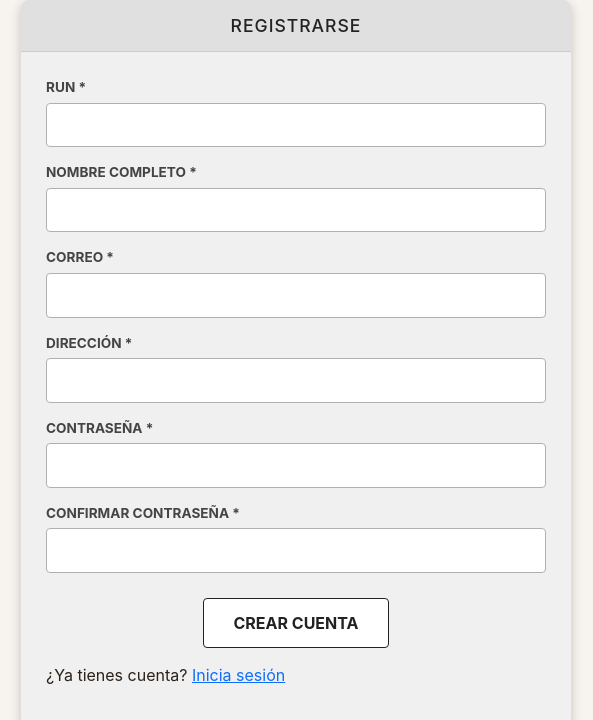
Test case: Registro › debe mostrar error si las contraseñas no coinciden
Type "12345678-5" into the field labelled "RUN *". click: (296, 125)
box: [46,102,546,147]
Type "Ana Pérez" into the field labelled "NOMBRE COMPLETO *". click: (296, 210)
box: [46,188,546,232]
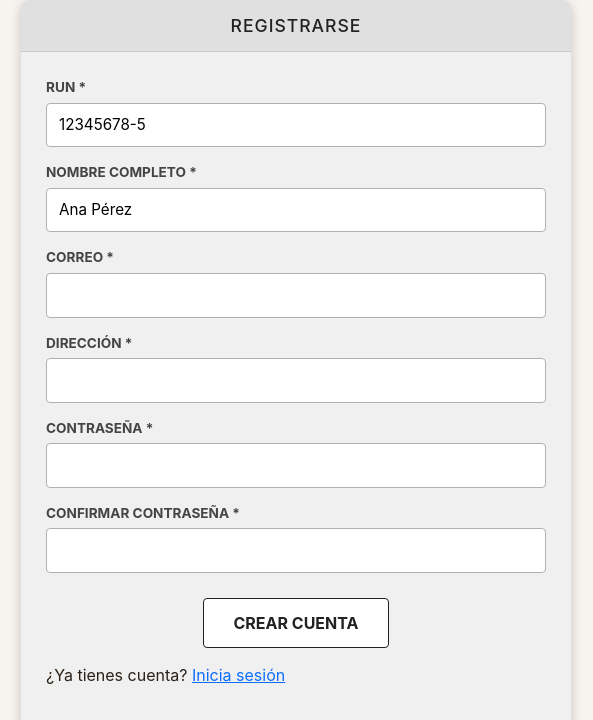
Type "ana@gmail.com" into the field labelled "CORREO *". click: (296, 295)
box: [46,273,546,318]
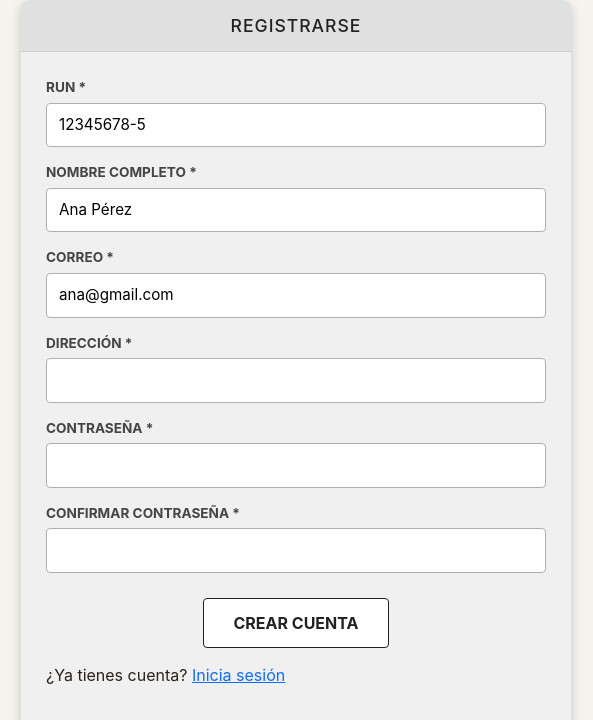
Type "Av. Siempre Viva 123" into the field labelled "DIRECCIÓN *". click: (296, 380)
box: [46,358,546,403]
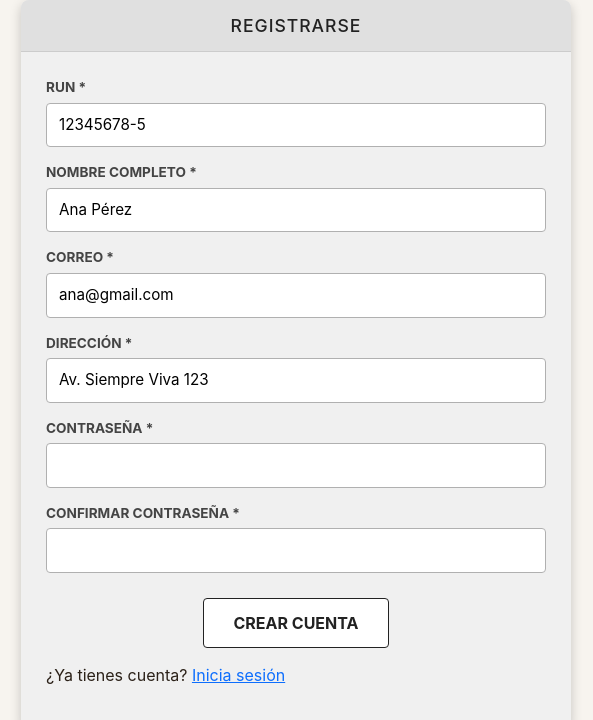
Type "clave12345" into the password field labelled "CONTRASEÑA *". click: (296, 466)
box: [46,443,546,488]
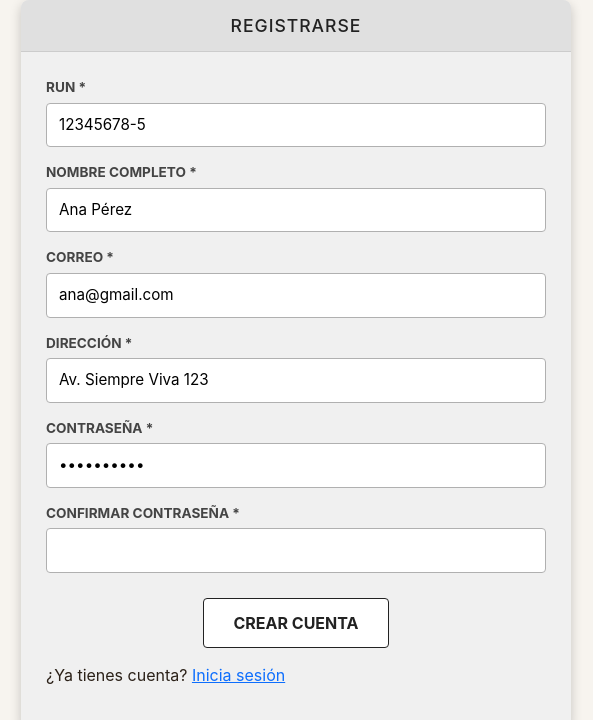
Type "otraClave123" into the password field labelled "CONFIRMAR CONTRASEÑA *". click: (296, 551)
box: [46,528,546,573]
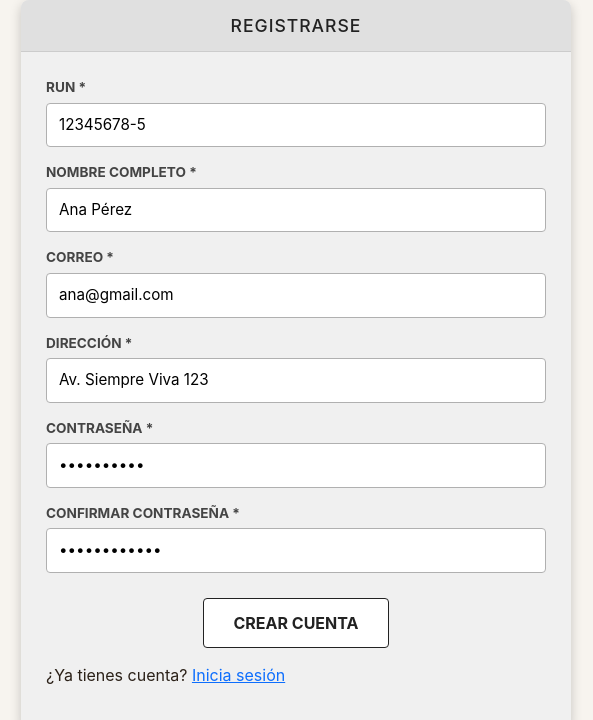
Click the button "CREAR CUENTA". click: click(296, 623)
box: [202,598,390,648]
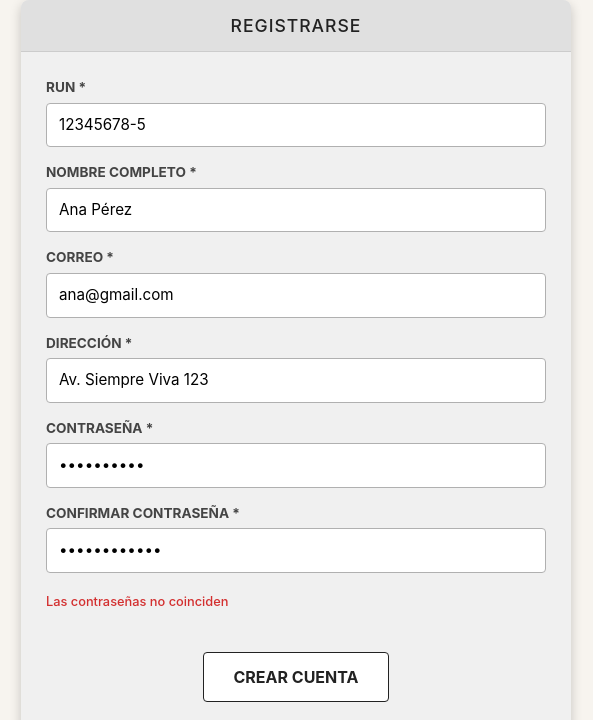
Now the message reads "Las contraseñas no coinciden", box [46,594,228,609]
